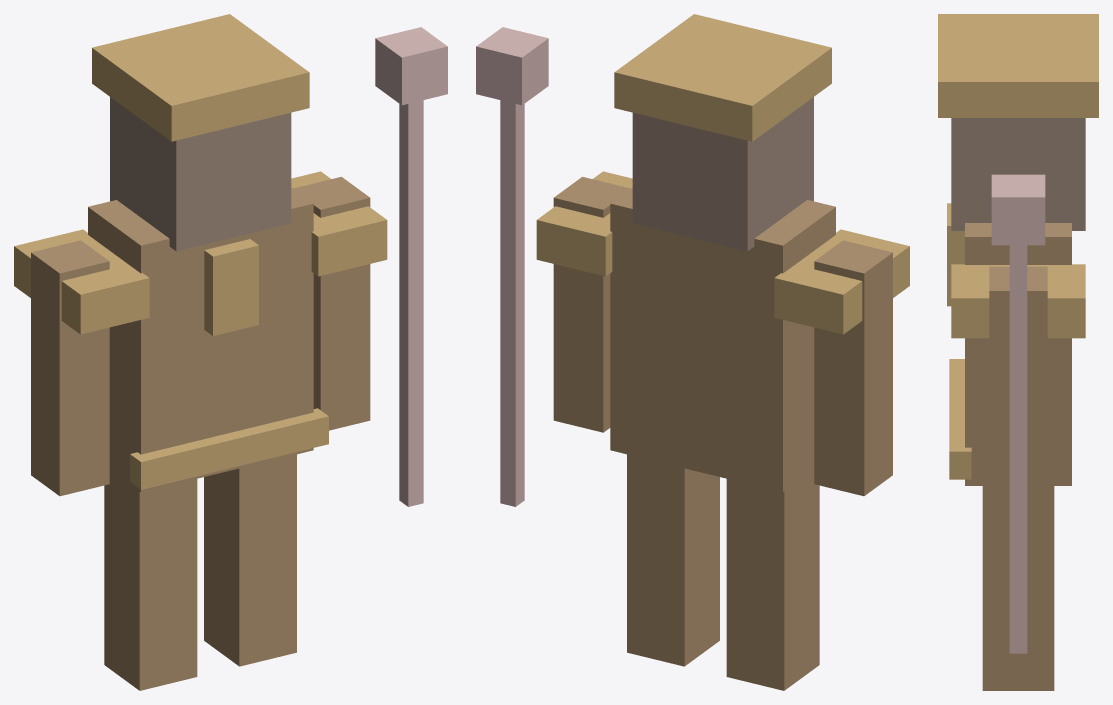
File: 07_dax_riftwalker_custodian_of_inferno.glb
3 renders of one model, left to right at view 1: azimuth 30°, elevation 25°; view 2: azimuth 150°, elevation 25°; view 3: azimuth 270°, elevation 25°, orthographic.
Parts seen in each view (by area): view 1: Dax Riftwalker, Custodian of Inferno; view 2: Dax Riftwalker, Custodian of Inferno; view 3: Dax Riftwalker, Custodian of Inferno.
Part boxes in pixels (x1,y1,x2,y2): Dax Riftwalker, Custodian of Inferno: [14, 14, 447, 690]; Dax Riftwalker, Custodian of Inferno: [476, 14, 909, 690]; Dax Riftwalker, Custodian of Inferno: [938, 14, 1098, 690].
Bounding box in the file's own units: 1.07 × 1.57 × 0.3796.
